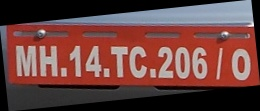character: (14, 44, 37, 77), (38, 44, 58, 77), (128, 45, 148, 77), (109, 45, 128, 78), (231, 48, 250, 80), (157, 45, 173, 78), (85, 45, 101, 77), (175, 46, 190, 79), (192, 46, 206, 79), (69, 44, 82, 78)
